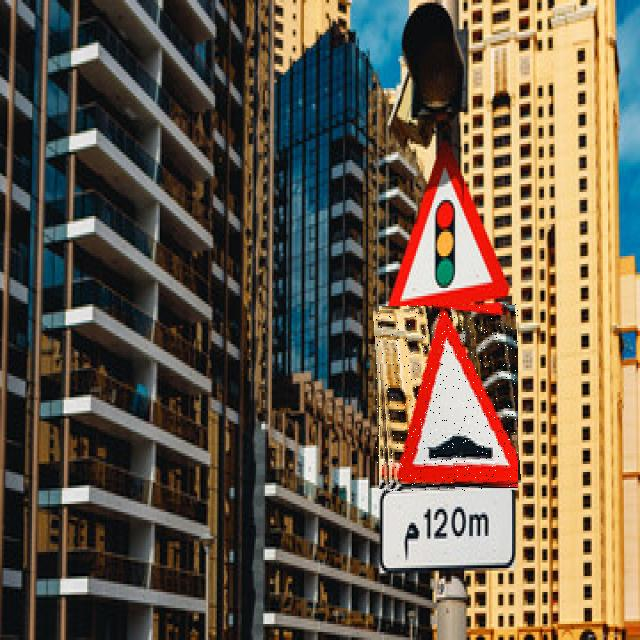hump: (376, 304, 518, 491)
